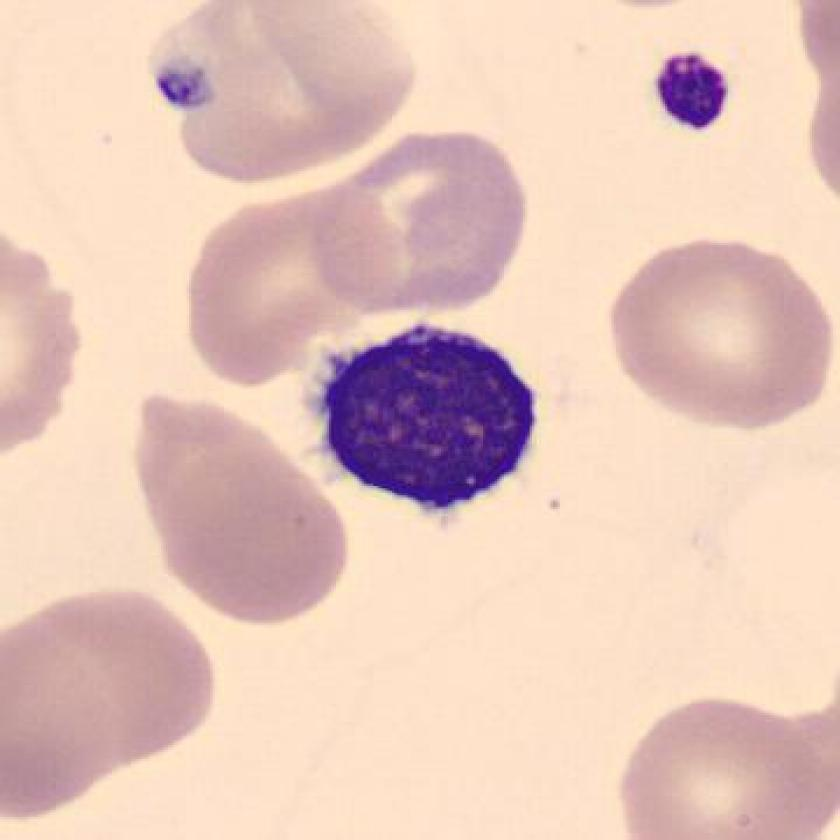lymphocyte: (300, 309, 559, 524)
